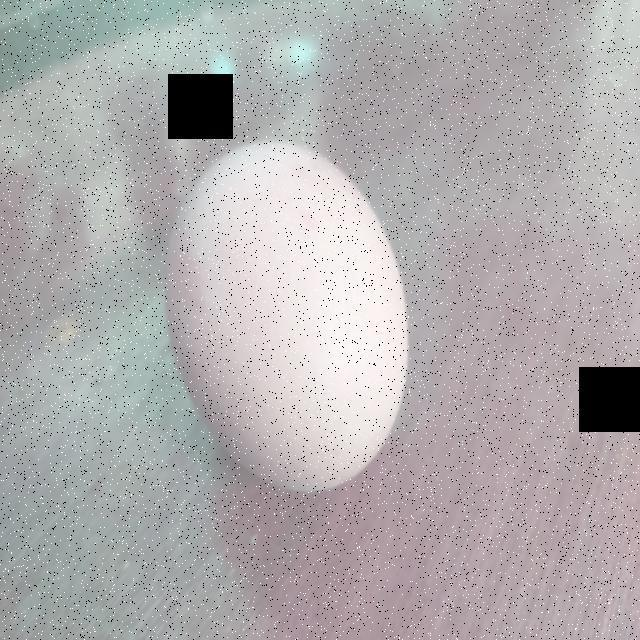egg: (160, 133, 410, 497)
